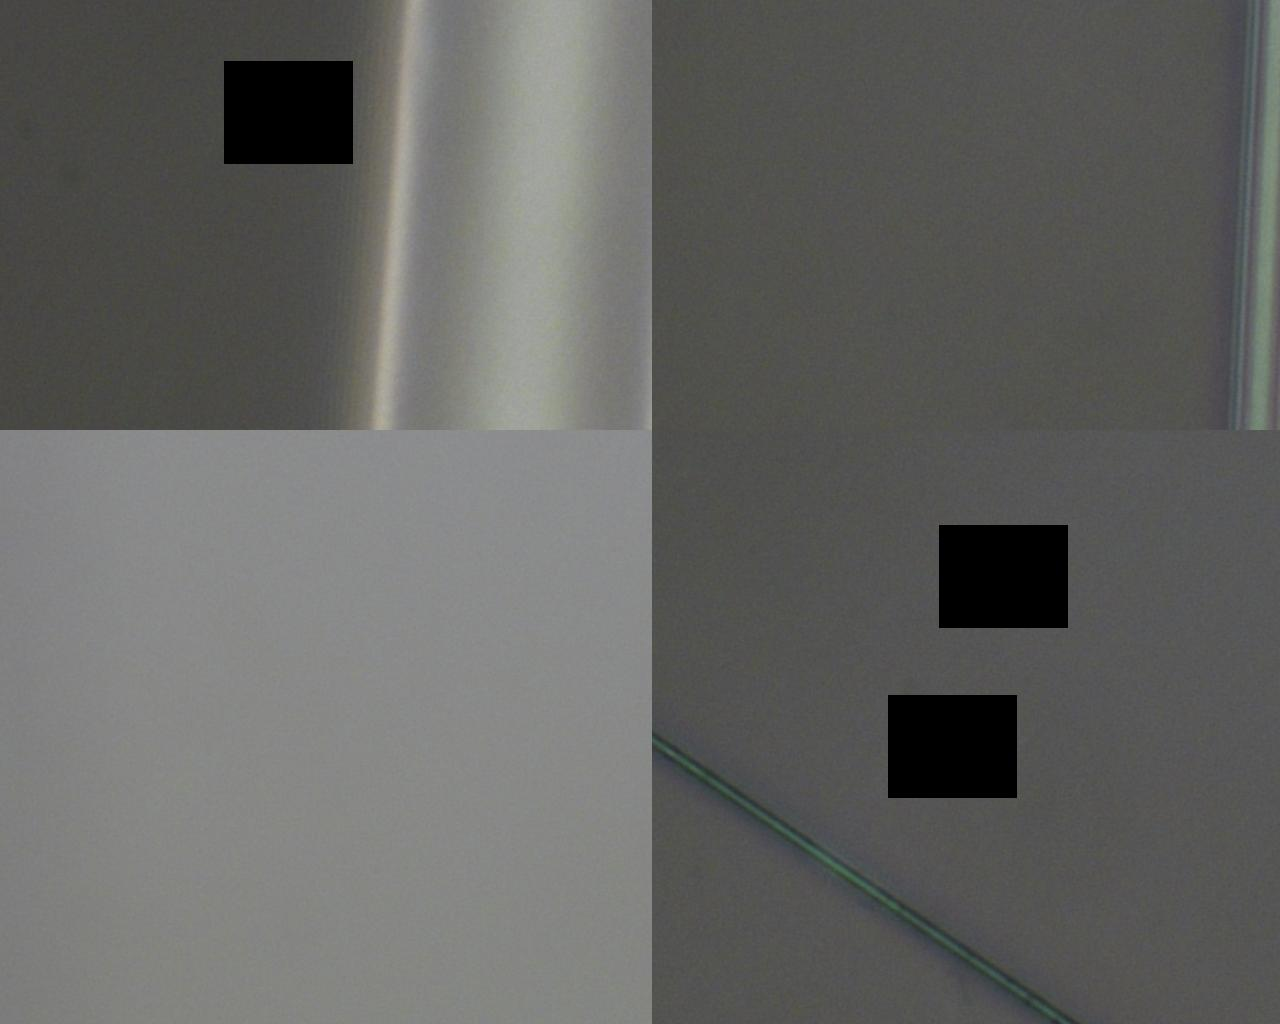fiber: (572, 0, 823, 1024)
